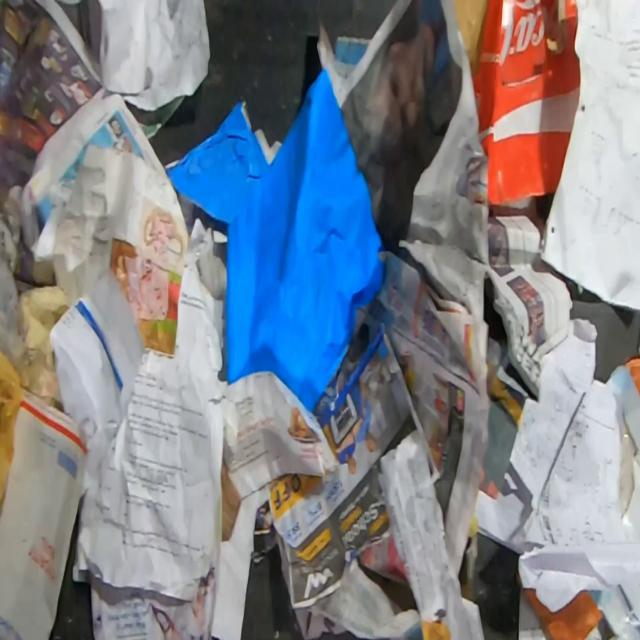cardboard: (516, 360, 640, 640), (0, 383, 89, 639), (472, 0, 580, 206), (0, 252, 28, 384), (221, 458, 241, 542)
soft_plastic: (0, 348, 23, 507), (452, 0, 490, 75), (198, 242, 229, 300)
